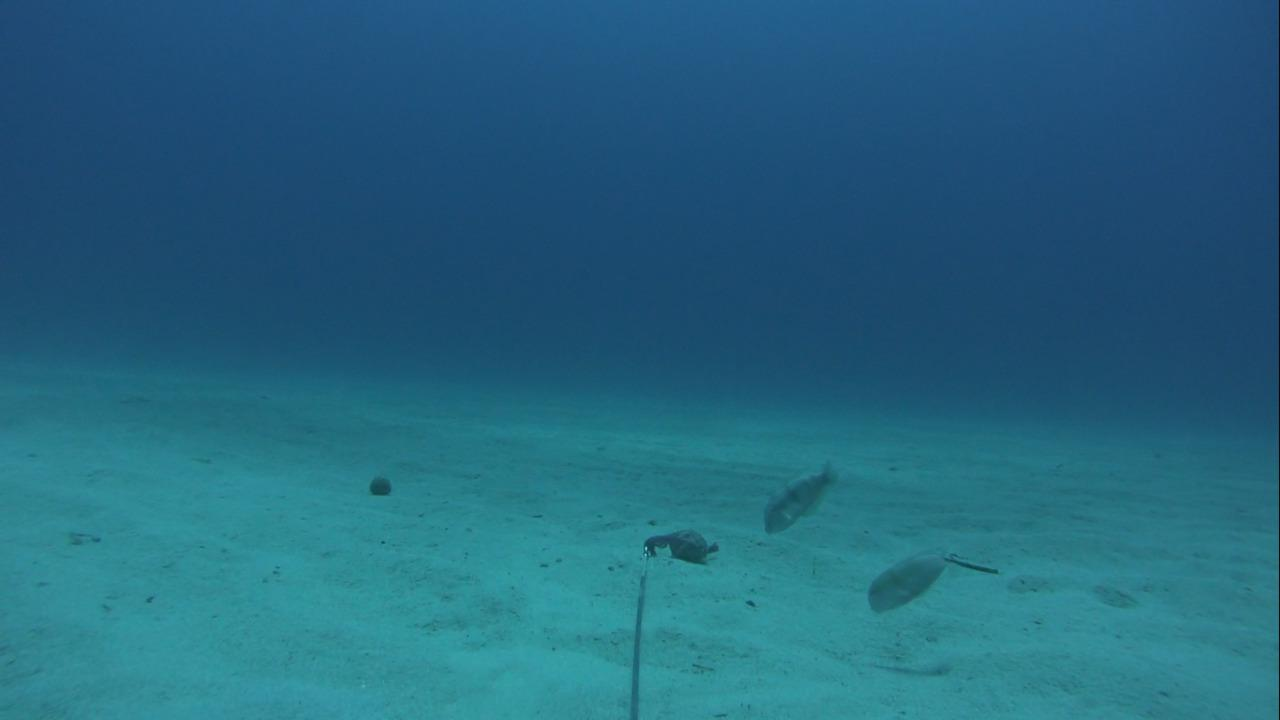raor: (759, 462, 843, 537), (865, 545, 950, 614)
